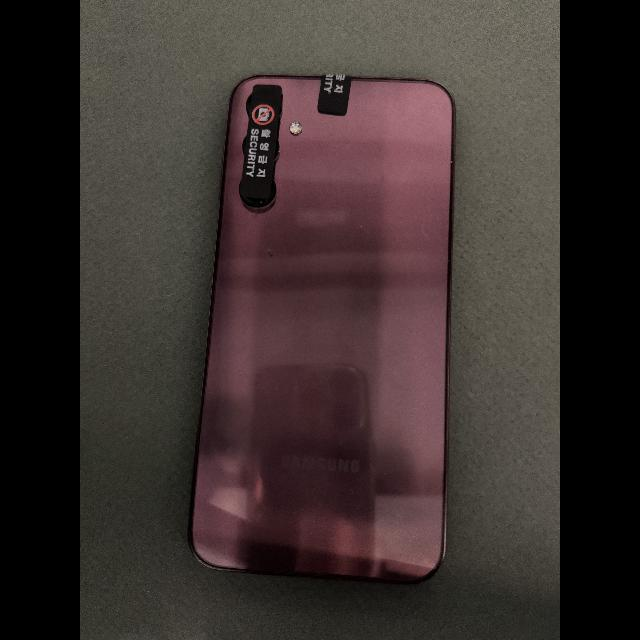lens: (240, 181, 276, 207), (246, 94, 252, 117), (243, 136, 247, 156)
phone: (188, 72, 455, 583)
sticker: (241, 85, 282, 199)
